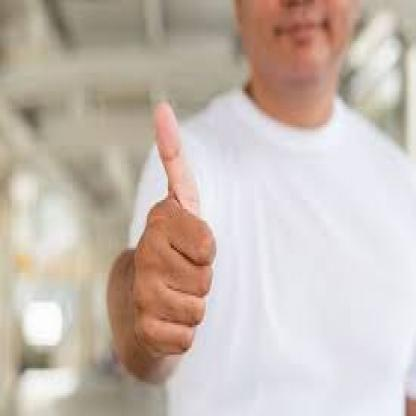thumb_up: (132, 98, 219, 355)
